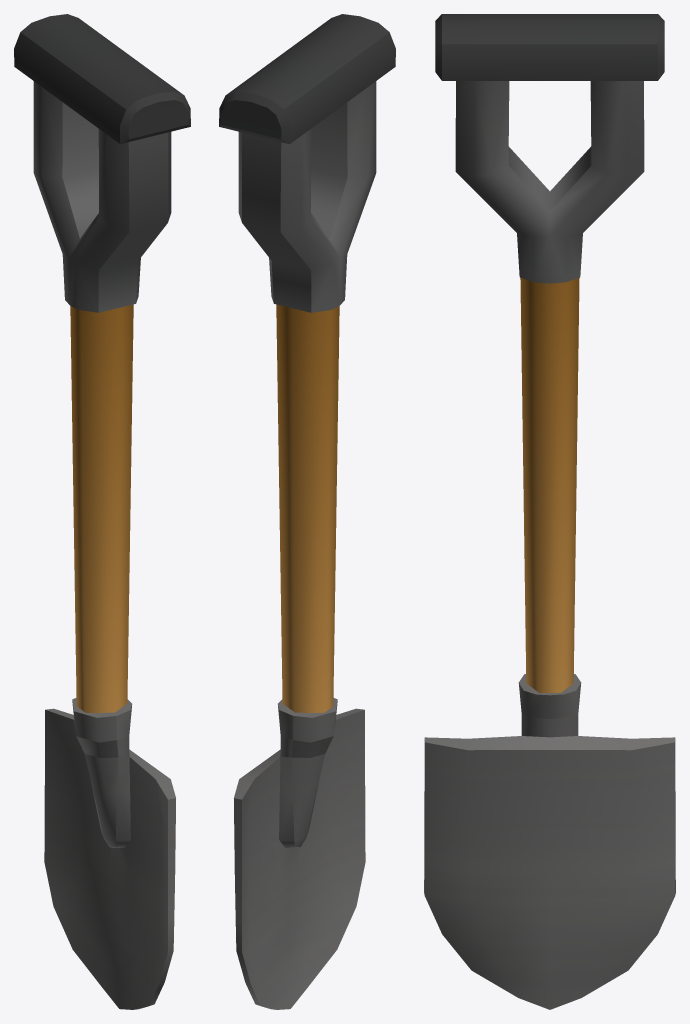
Rendered from Shovel_2.glb.
3 renders of one model, left to right at view 1: azimuth 30°, elevation 25°; view 2: azimuth 150°, elevation 25°; view 3: azimuth 270°, elevation 25°, orthographic.
Visible parts, largest first — view 1: Shovel_2; view 2: Shovel_2; view 3: Shovel_2.
Part boxes in pixels (bbox=[...]): Shovel_2: bbox=[14, 14, 190, 1009]; Shovel_2: bbox=[219, 14, 395, 1009]; Shovel_2: bbox=[424, 14, 675, 1009].
Bounding box in the file's own units: 0.0542 × 0.7009 × 0.1635.
Materials: 2 (2 with a texture image).
